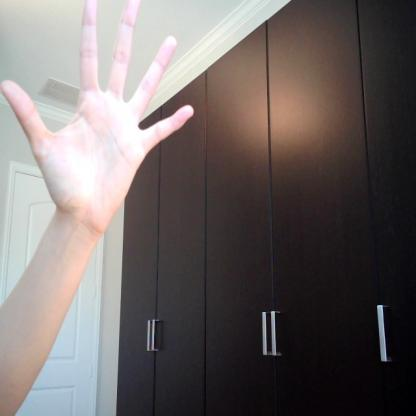five: (0, 0, 195, 239)
